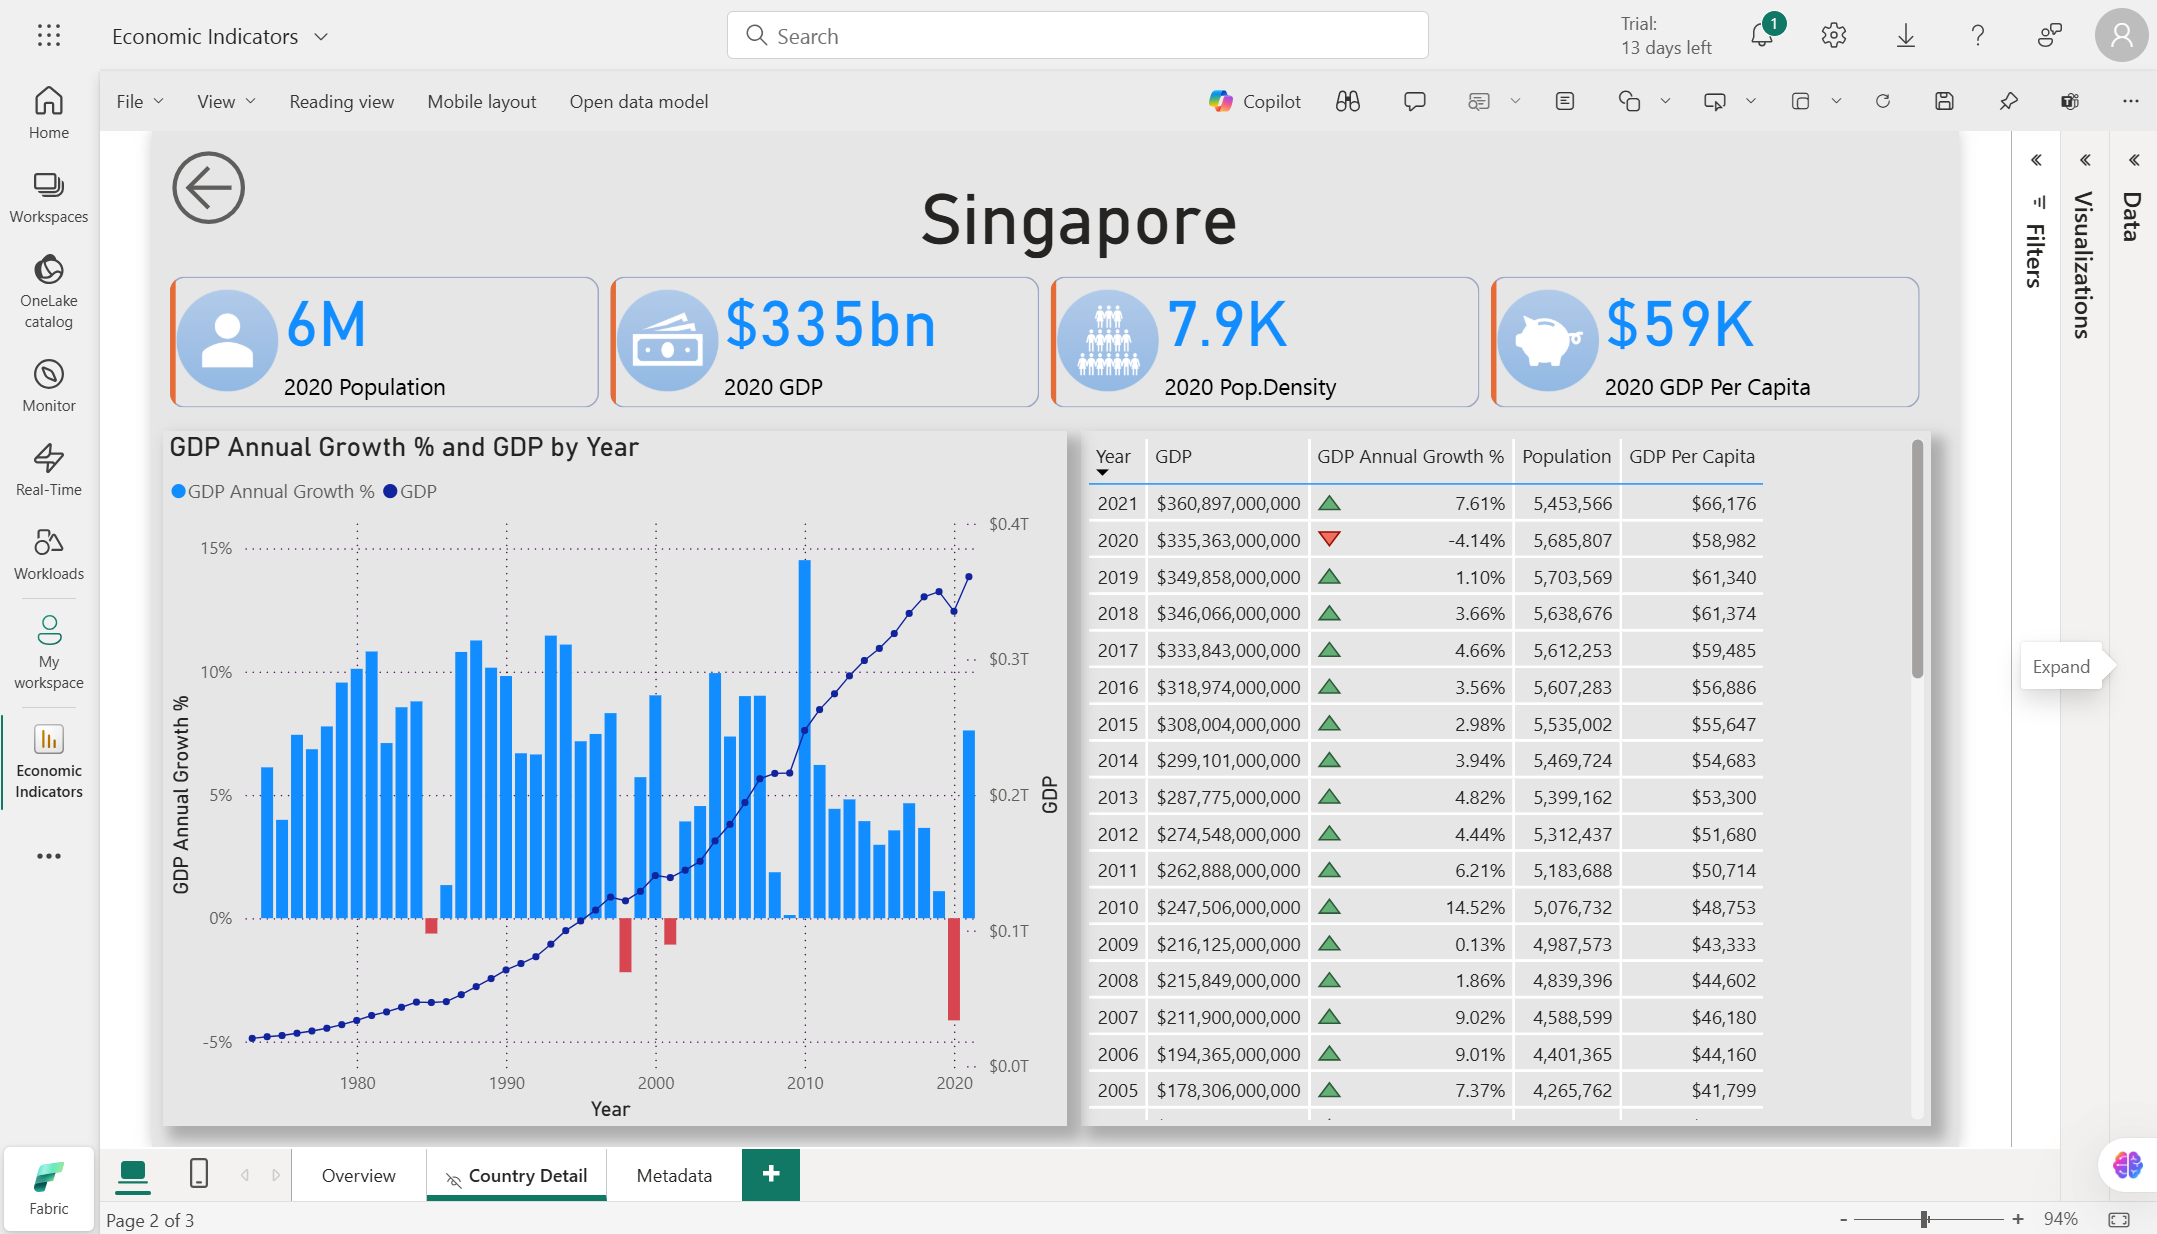

Layout of this report page (visuals, bound fields, positions):
{"tool":"powerbi","page":{"name":"Country Detail","canvas":[1280,720],"ordinal":1},"visuals":[{"type":"actionButton","box":[7.8,7.8,65.5,65.5],"z":0},{"type":"tableEx","fields":{"Values":["Indicators.Year","_Measures.GDP","_Measures.GDP Annual Growth %","_Measures.Population","_Measures.GDP Per Capita"]},"box":[658,213.1,602.9,492.7],"z":1000},{"type":"lineStackedColumnComboChart","fields":{"Category":["Indicators.Year"],"Y2":["_Measures.GDP"],"Y":["_Measures.GDP Annual Growth %"]},"box":[7.8,213.1,640.4,492.8],"z":2000},{"type":"cardVisual","fields":{"Data":["_Measures.Selected Country"]},"box":[117.6,7.8,1079.9,89.9],"z":3000},{"type":"cardVisual","fields":{"Data":["_Measures.2020 Population","_Measures.2020 GDP","_Measures.2020 Pop.Density","_Measures.2020 GDP Per Capita"]},"box":[7.3,97.7,1253.6,103.9],"z":4000}]}

Visuals, with their boxes on the page's 1280x720 design canvas (x1, y1, x2, y2). These are canvas units, not pixel positions in the 2157x1234 screenshot, which may show the page scaled, cropped or inside an application window:
actionButton: select_region(8, 8, 73, 73)
tableEx - Indicators.Year x _Measures.GDP: select_region(658, 213, 1261, 706)
lineStackedColumnComboChart - Indicators.Year x _Measures.GDP: select_region(8, 213, 648, 706)
cardVisual - _Measures.Selected Country: select_region(118, 8, 1198, 98)
cardVisual - _Measures.2020 Population x _Measures.2020 GDP: select_region(7, 98, 1261, 202)
